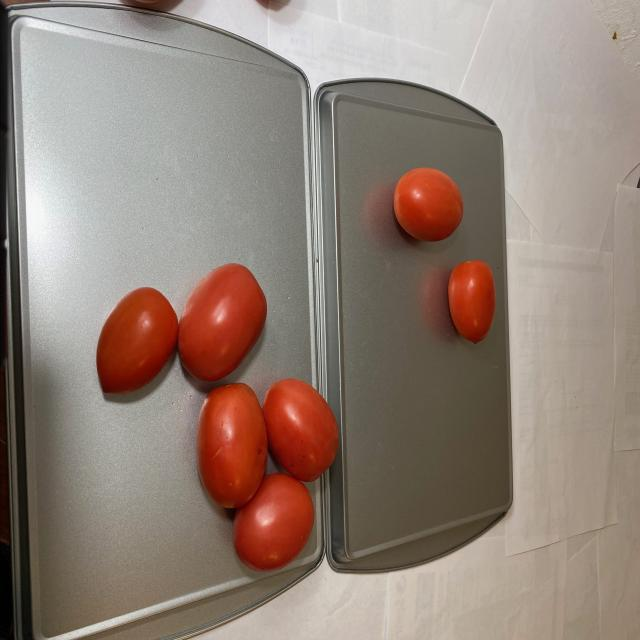tomato: (92, 264, 336, 577), (386, 169, 496, 348)
